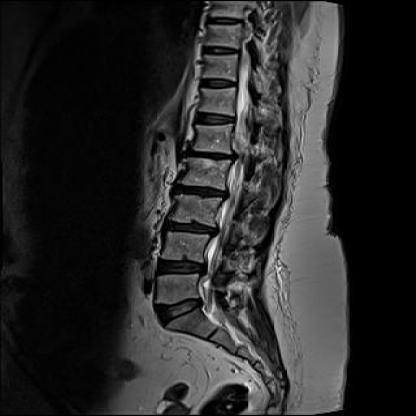Disc Bulgerotation: (153, 255, 211, 281), (161, 220, 225, 242), (167, 183, 233, 204), (177, 148, 243, 166)
